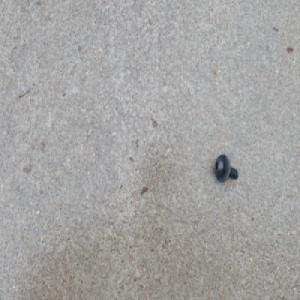BoltWasher: (214, 151, 239, 182)
